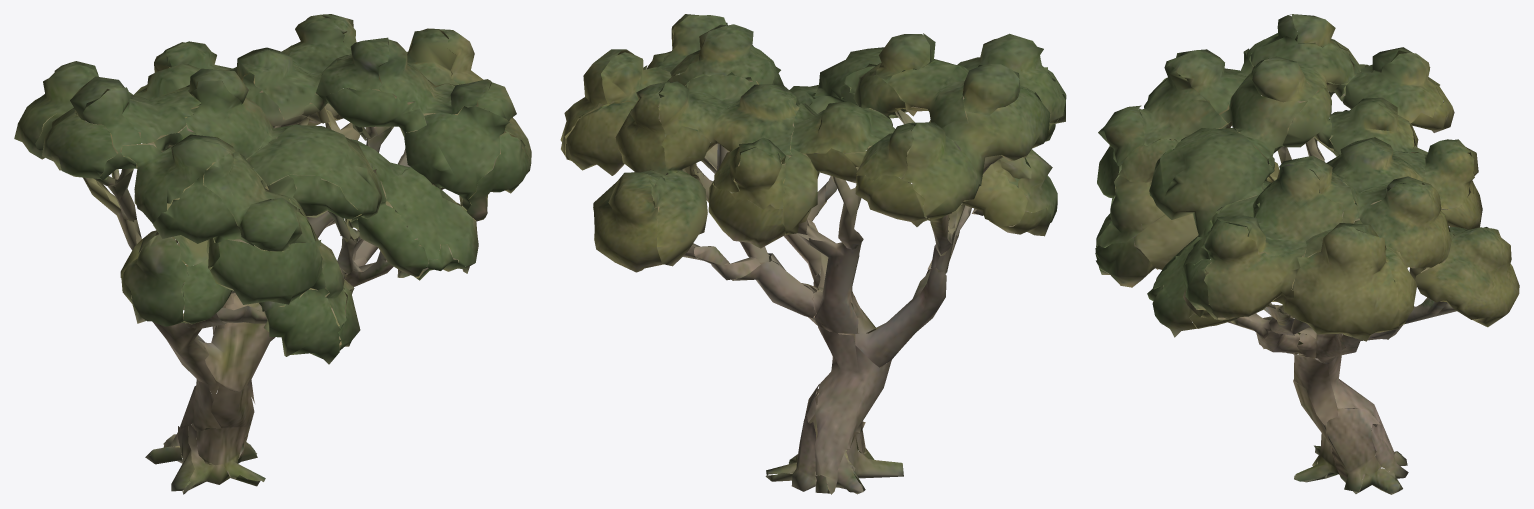
Rendered from forest_tree_canopy_01_lod0.glb.
3 views of the same model, side by side, from view 1: azimuth 30°, elevation 25°; view 2: azimuth 150°, elevation 25°; view 3: azimuth 270°, elevation 25° (orthographic). The views are drawn at different scales.
Visible parts, largest first — view 1: candidate_005_lod0; view 2: candidate_005_lod0; view 3: candidate_005_lod0.
Part boxes in pixels (left/top/right/bottom): candidate_005_lod0: left=14, top=14, right=531, bottom=494; candidate_005_lod0: left=560, top=14, right=1066, bottom=494; candidate_005_lod0: left=1095, top=14, right=1519, bottom=494.
Bounding box in the file's own units: 0.2817 × 0.2563 × 0.2454.
Materials: 1 (1 with a texture image).
